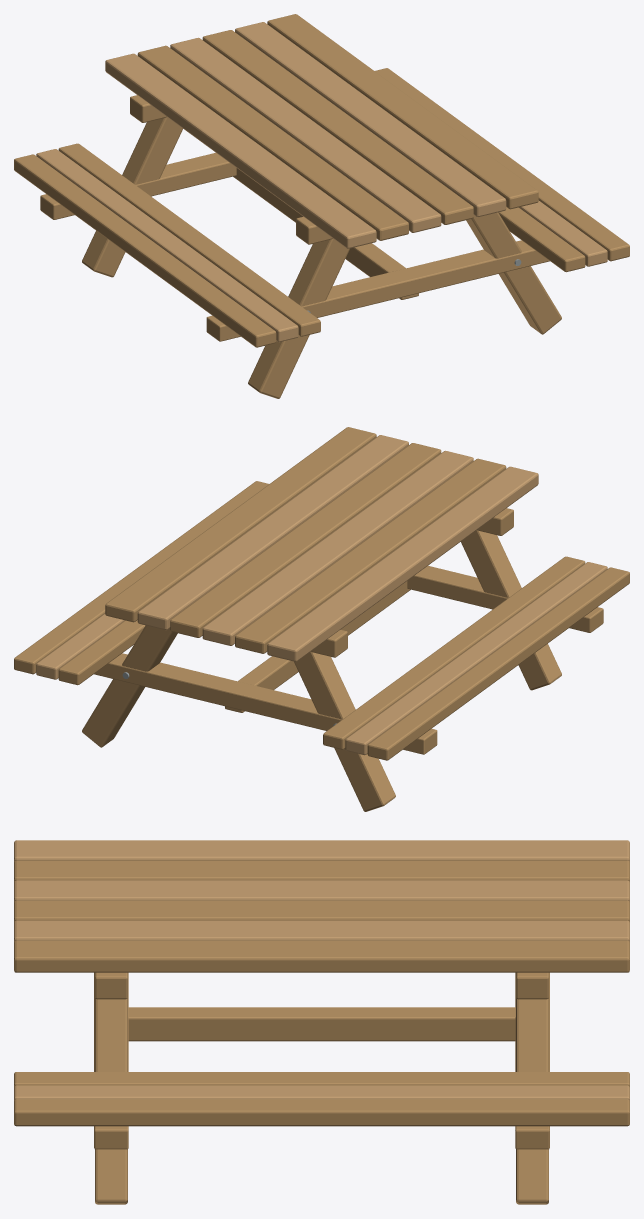
File: outdoor_picnic_table.glb
3 renders of one model, top to bottom at view 1: azimuth 30°, elevation 25°; view 2: azimuth 150°, elevation 25°; view 3: azimuth 270°, elevation 25°, orthographic. The views are drawn at different scales.
Visible parts, largest first — view 1: Tabletop plank 1, Tabletop plank 5, Tabletop plank 2, Tabletop plank 6, Tabletop plank 3, Tabletop plank 4, Left bench plank, Bench cross beam, Left bench plank.001, Left bench plank.002, A-frame leg, Right bench plank.002 (+8 smaller); view 2: Tabletop plank 1, Tabletop plank 5, Tabletop plank 2, Tabletop plank 6, Tabletop plank 3, Tabletop plank 4, Left bench plank, Bench cross beam.001, Left bench plank.001, Left bench plank.002, A-frame leg.002, Right bench plank.002 (+8 smaller); view 3: Tabletop plank 6, Right bench plank.002, Longitudinal center brace, Tabletop plank 3, Tabletop plank 1, Tabletop plank 2, Tabletop plank 4, Tabletop plank 5, Right bench plank.001, Right bench plank, A-frame leg.001, A-frame leg.003 (+4 smaller).
Boxes of the visible parts, x1,y1,x2,y2 form: Tabletop plank 1: [105, 53, 376, 248]; Tabletop plank 5: [235, 22, 506, 217]; Tabletop plank 2: [137, 45, 408, 240]; Tabletop plank 6: [267, 14, 538, 209]; Tabletop plank 3: [170, 37, 441, 232]; Tabletop plank 4: [202, 30, 473, 224]; Left bench plank: [14, 154, 276, 347]; Bench cross beam: [206, 240, 549, 341]; Left bench plank.001: [36, 149, 298, 342]; Left bench plank.002: [58, 143, 320, 336]; A-frame leg: [248, 238, 349, 398]; Right bench plank.002: [375, 68, 629, 261]; Tabletop plank 1: [267, 466, 538, 661]; Tabletop plank 5: [137, 435, 408, 630]; Tabletop plank 2: [235, 458, 506, 653]; Tabletop plank 6: [105, 427, 376, 622]; Tabletop plank 3: [202, 450, 473, 645]; Tabletop plank 4: [170, 443, 441, 637]; Left bench plank: [367, 567, 629, 760]; Bench cross beam.001: [94, 653, 437, 754]; Left bench plank.001: [345, 562, 607, 755]; Left bench plank.002: [323, 556, 585, 749]; A-frame leg.002: [294, 651, 395, 811]; Right bench plank.002: [14, 481, 268, 674]; Tabletop plank 6: [14, 940, 629, 972]; Right bench plank.002: [14, 1099, 629, 1126]; Longitudinal center brace: [128, 1007, 515, 1041]; Tabletop plank 3: [14, 880, 629, 902]; Tabletop plank 1: [14, 840, 629, 861]; Tabletop plank 2: [14, 860, 629, 881]; Tabletop plank 4: [14, 900, 629, 922]; Tabletop plank 5: [14, 920, 629, 942]; Right bench plank.001: [14, 1085, 629, 1100]; Right bench plank: [14, 1072, 629, 1086]; A-frame leg.001: [95, 998, 127, 1204]; A-frame leg.003: [516, 998, 548, 1204].
Size of the model in its own units: 1.79 by 0.7858 by 1.96.
